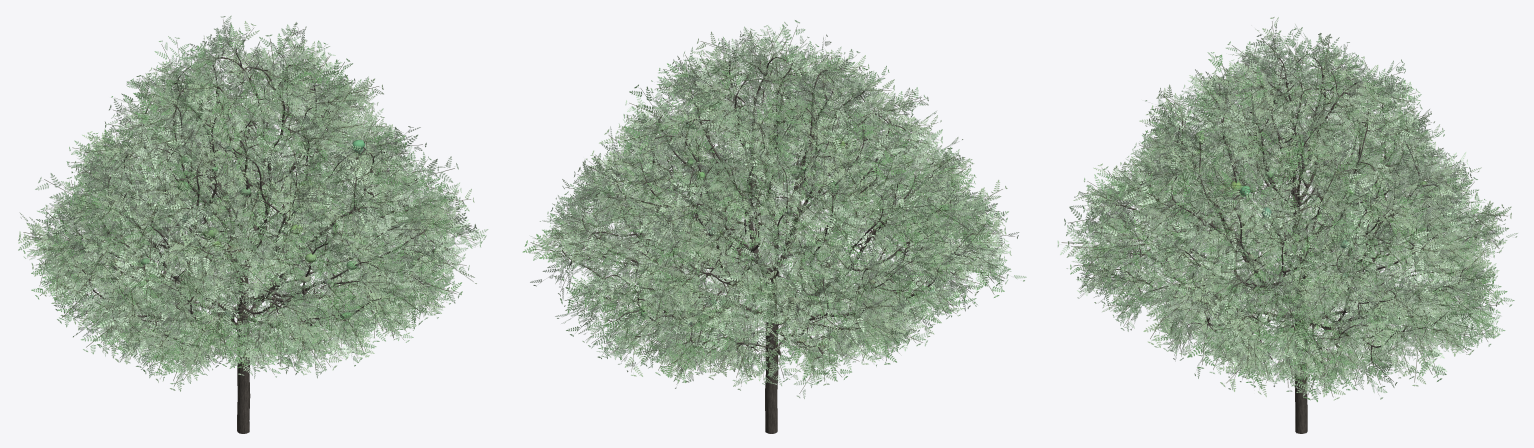
The model's file is tree_56_broadleaf.glb.
3 views of the same model, side by side, from view 1: azimuth 30°, elevation 25°; view 2: azimuth 150°, elevation 25°; view 3: azimuth 270°, elevation 25° (orthographic).
Parts seen in each view (by area): view 1: tree_56_broadleaf.leaves, tree_56_broadleaf.trunk_branches, tree_56_broadleaf.foliage_volume; view 2: tree_56_broadleaf.leaves, tree_56_broadleaf.trunk_branches, tree_56_broadleaf.foliage_volume; view 3: tree_56_broadleaf.leaves, tree_56_broadleaf.trunk_branches, tree_56_broadleaf.foliage_volume.
Boxes of the visible parts, bbox=[...] form: tree_56_broadleaf.leaves: bbox=[18, 15, 488, 391]; tree_56_broadleaf.trunk_branches: bbox=[56, 48, 447, 433]; tree_56_broadleaf.foliage_volume: bbox=[87, 86, 366, 318]; tree_56_broadleaf.leaves: bbox=[522, 20, 1026, 398]; tree_56_broadleaf.trunk_branches: bbox=[562, 53, 978, 433]; tree_56_broadleaf.foliage_volume: bbox=[604, 99, 948, 348]; tree_56_broadleaf.leaves: bbox=[1057, 17, 1517, 401]; tree_56_broadleaf.trunk_branches: bbox=[1100, 51, 1479, 433]; tree_56_broadleaf.foliage_volume: bbox=[1104, 115, 1449, 363].
Size of the model in its own units: 17.45 by 15.65 by 16.31.
Materials: 3 (2 with a texture image).
